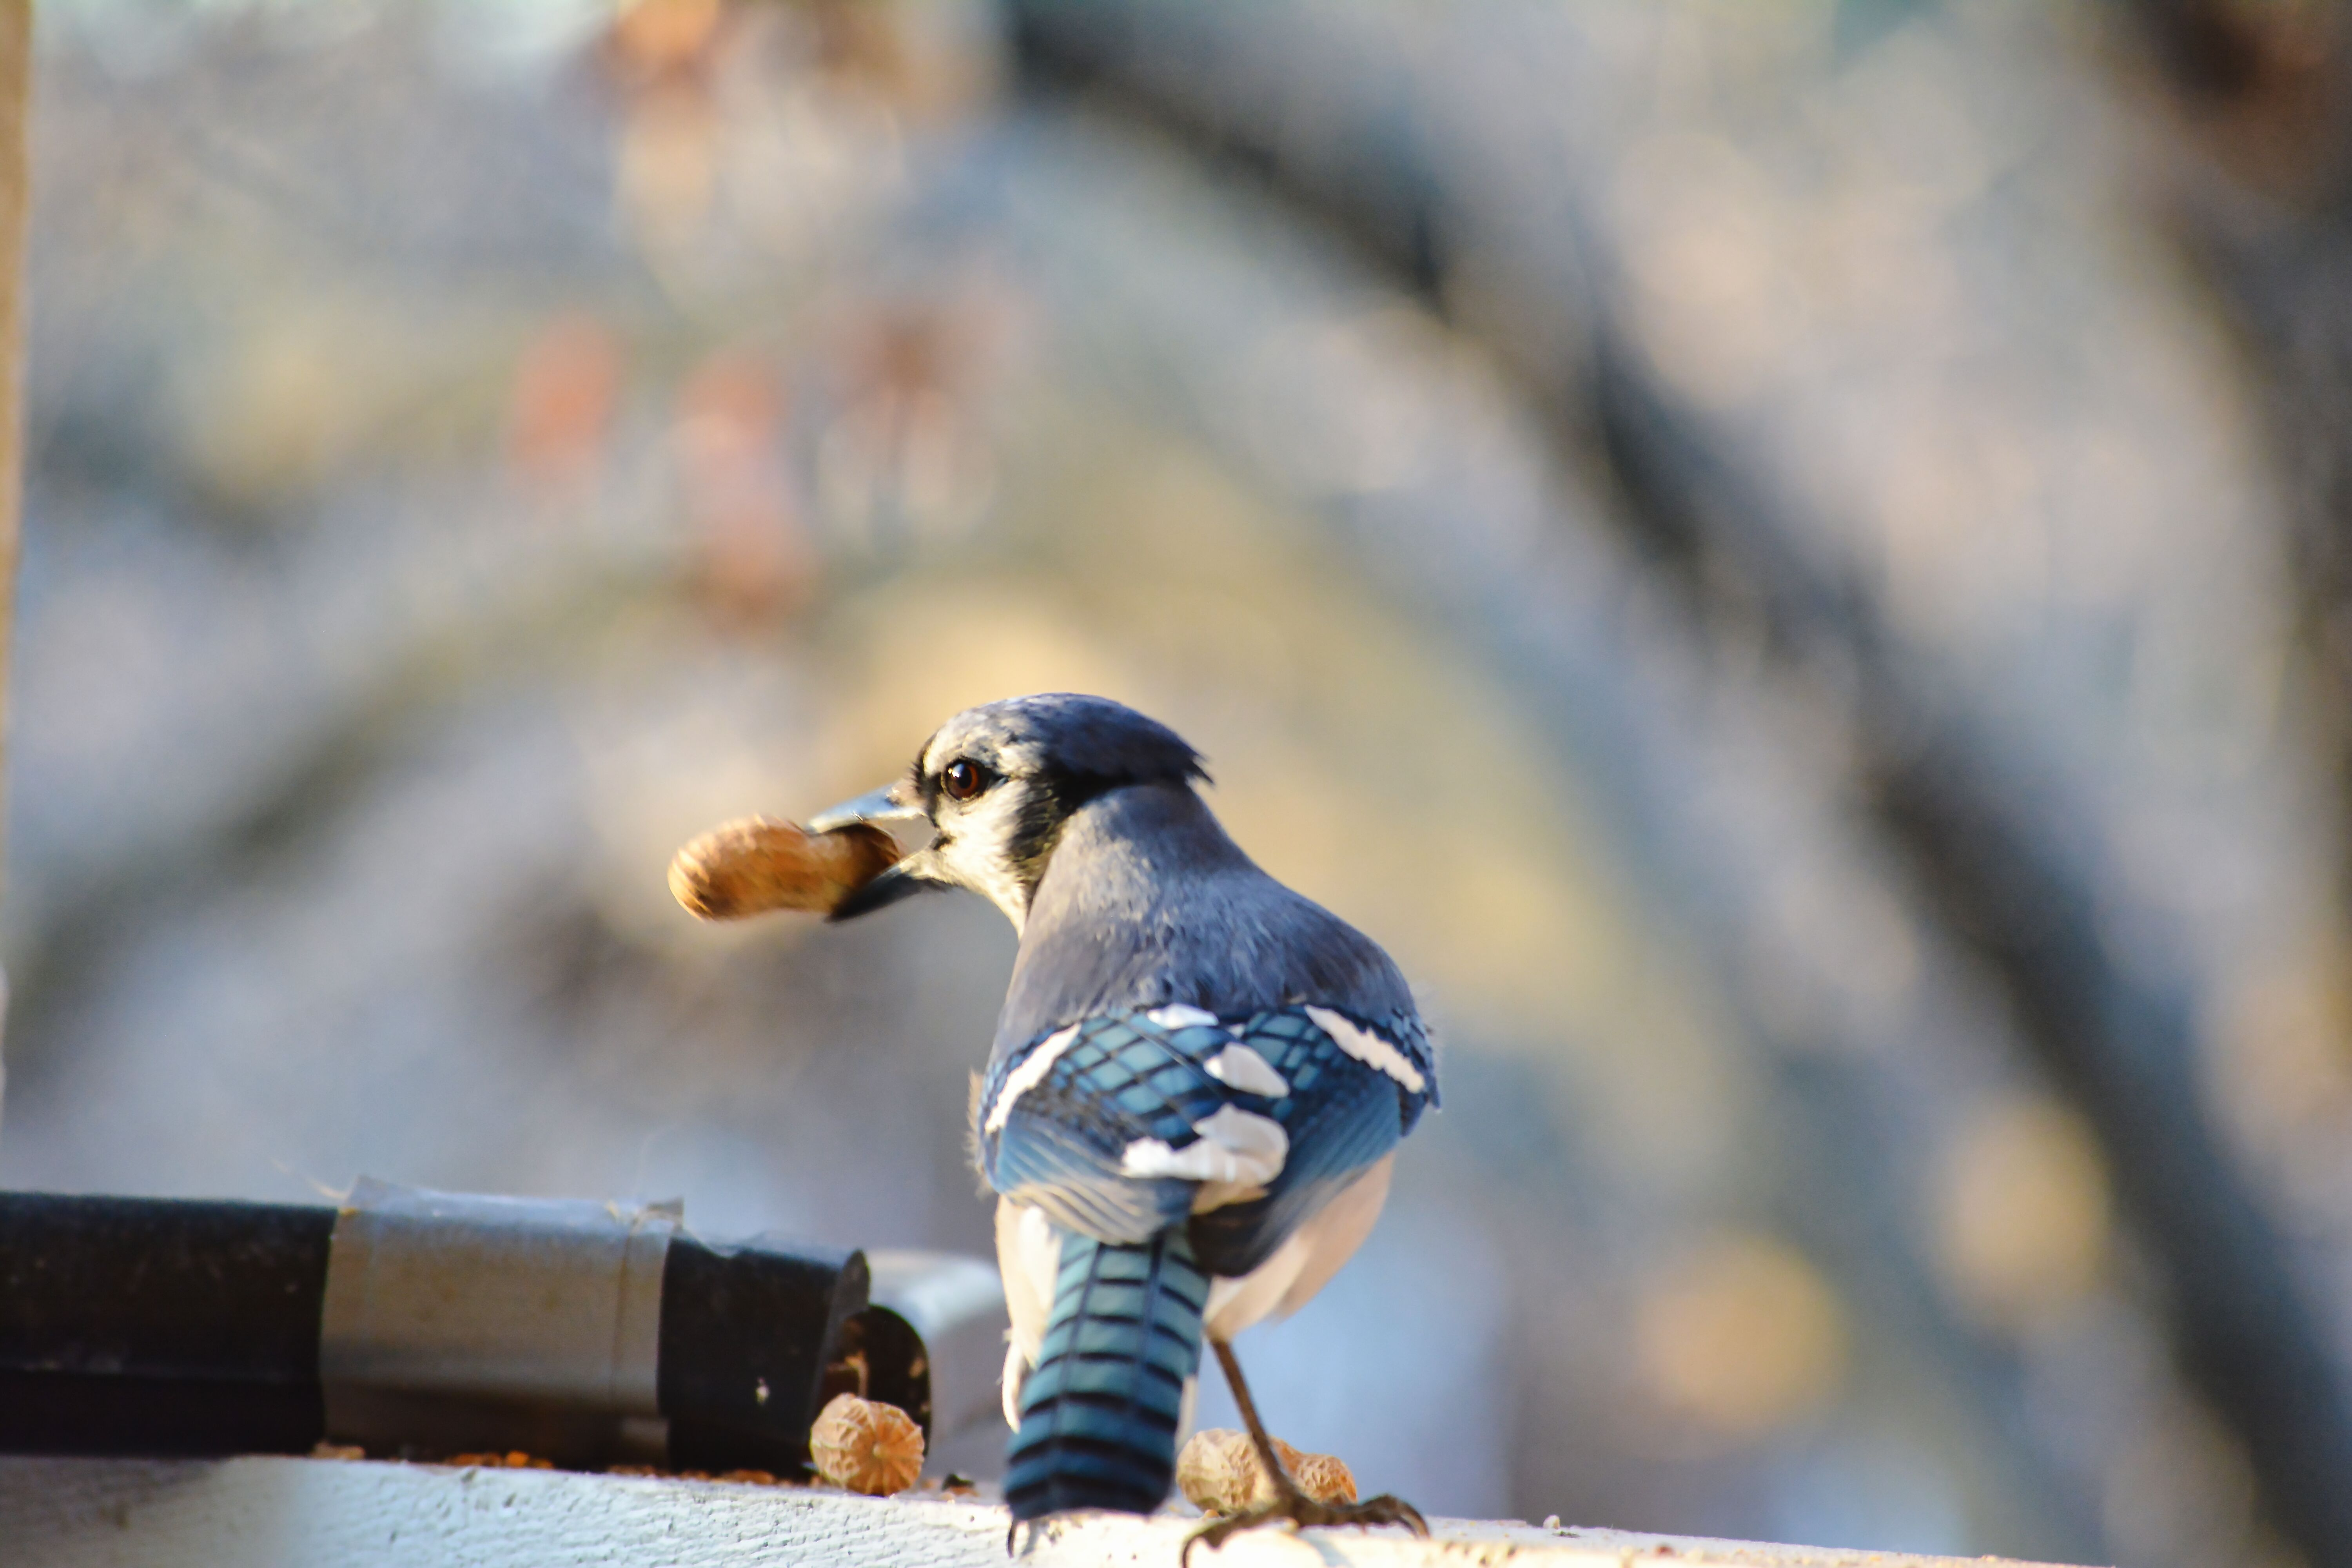bird: (634, 670, 1517, 1563)
nonbird: (18, 1202, 931, 1510)
